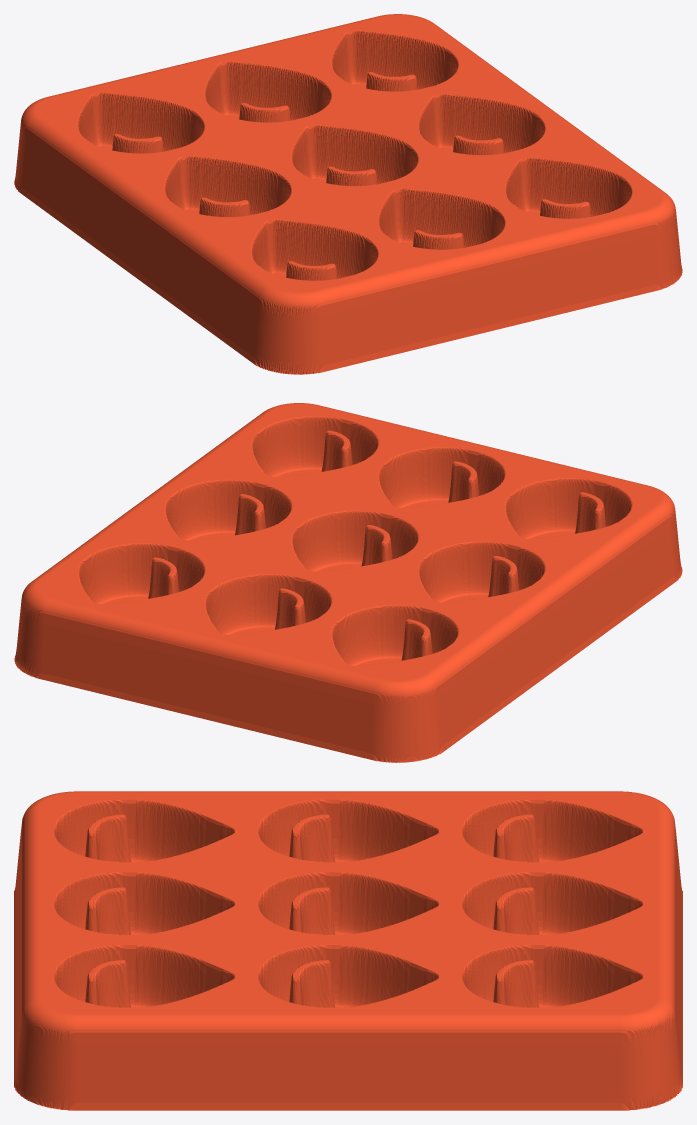
File: mold.glb
3 renders of one model, top to bottom at view 1: azimuth 30°, elevation 25°; view 2: azimuth 150°, elevation 25°; view 3: azimuth 270°, elevation 25°, orthographic. The views are drawn at different scales.
Parts seen in each view (by area): view 1: geometry_0; view 2: geometry_0; view 3: geometry_0.
Part boxes in pixels (x1,y1,x2,y2): geometry_0: [14, 14, 682, 374]; geometry_0: [14, 403, 682, 762]; geometry_0: [14, 791, 682, 1110].
Bounding box in the file's own units: 0.0826 × 0.0136 × 0.0964.
